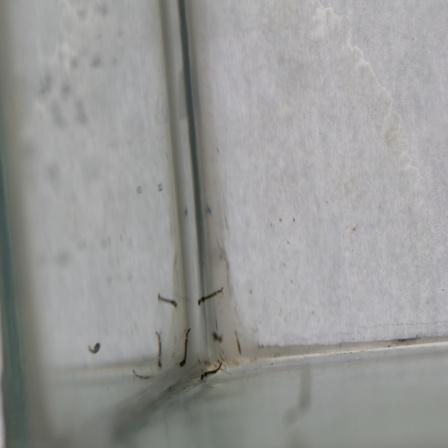Jentik-Nyamuk: (195, 279, 228, 310), (193, 359, 227, 385), (176, 322, 191, 370)
